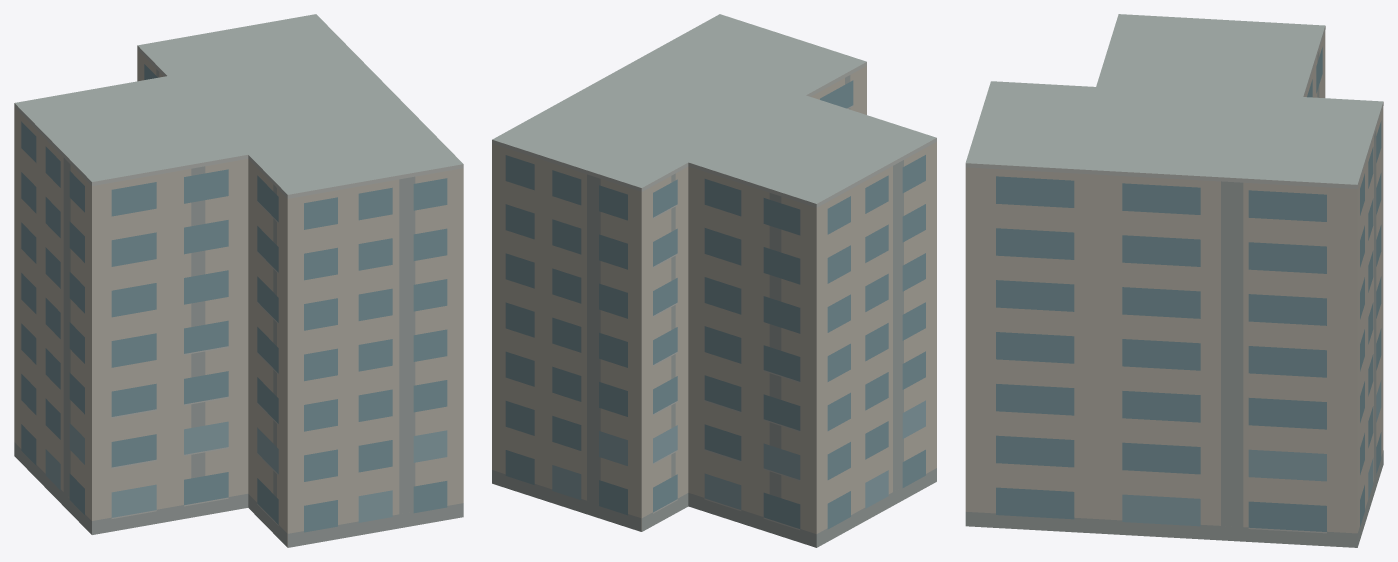
The model's file is residential-6ab35410-08ed-4410-aa59-0e43e6157f06.glb.
3 views of the same model, side by side, from view 1: azimuth 30°, elevation 25°; view 2: azimuth 150°, elevation 25°; view 3: azimuth 270°, elevation 25° (orthographic). The views are drawn at different scales.
Parts seen in each view (by area): view 1: residential-6ab35410-08ed-4410-aa59-0e43e6157f06.tmp; view 2: residential-6ab35410-08ed-4410-aa59-0e43e6157f06.tmp; view 3: residential-6ab35410-08ed-4410-aa59-0e43e6157f06.tmp.
Boxes of the visible parts, box(x1,y1,x2,y2) form: residential-6ab35410-08ed-4410-aa59-0e43e6157f06.tmp: box(14, 14, 463, 547); residential-6ab35410-08ed-4410-aa59-0e43e6157f06.tmp: box(492, 14, 936, 547); residential-6ab35410-08ed-4410-aa59-0e43e6157f06.tmp: box(965, 14, 1383, 547).
Size of the model in its own units: 21.55 by 21.35 by 22.29.
